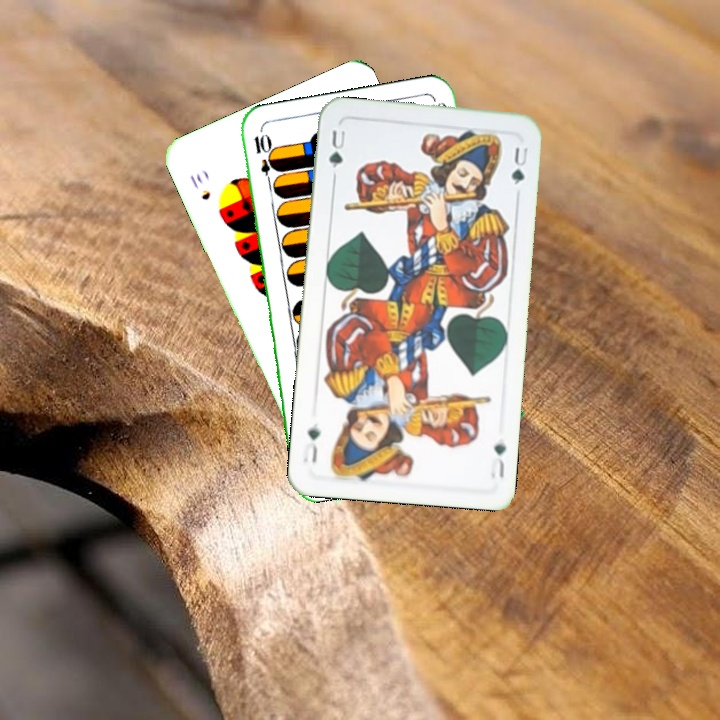E10: (250, 130, 276, 189)
GU: (325, 125, 348, 171), (486, 438, 508, 481)
S10: (185, 169, 213, 203)
